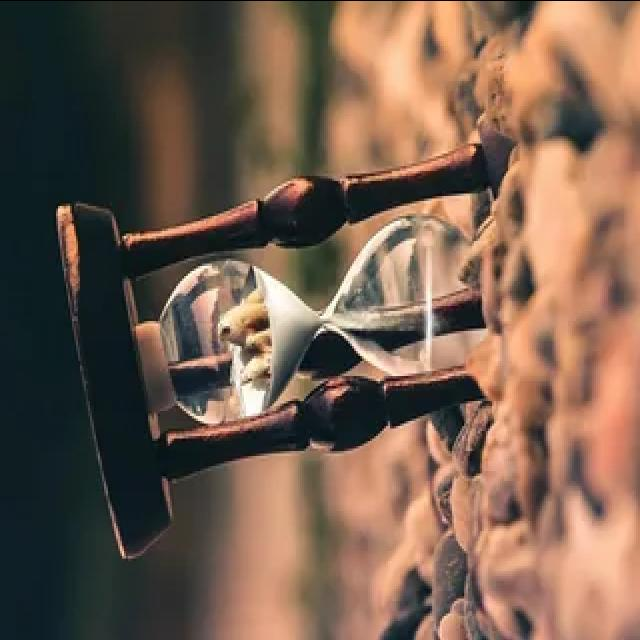clock: (49, 109, 539, 572)
